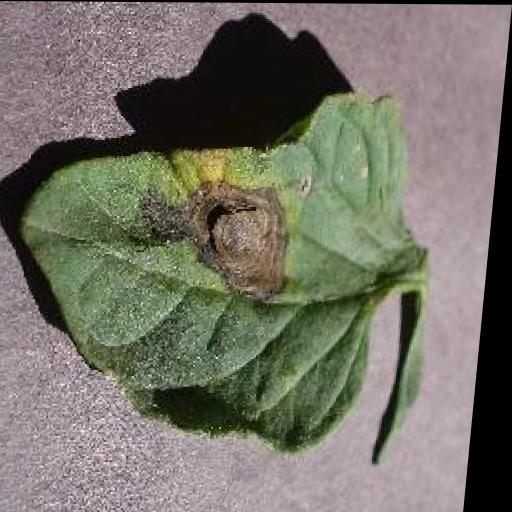Early Blight: (8, 79, 461, 459)
